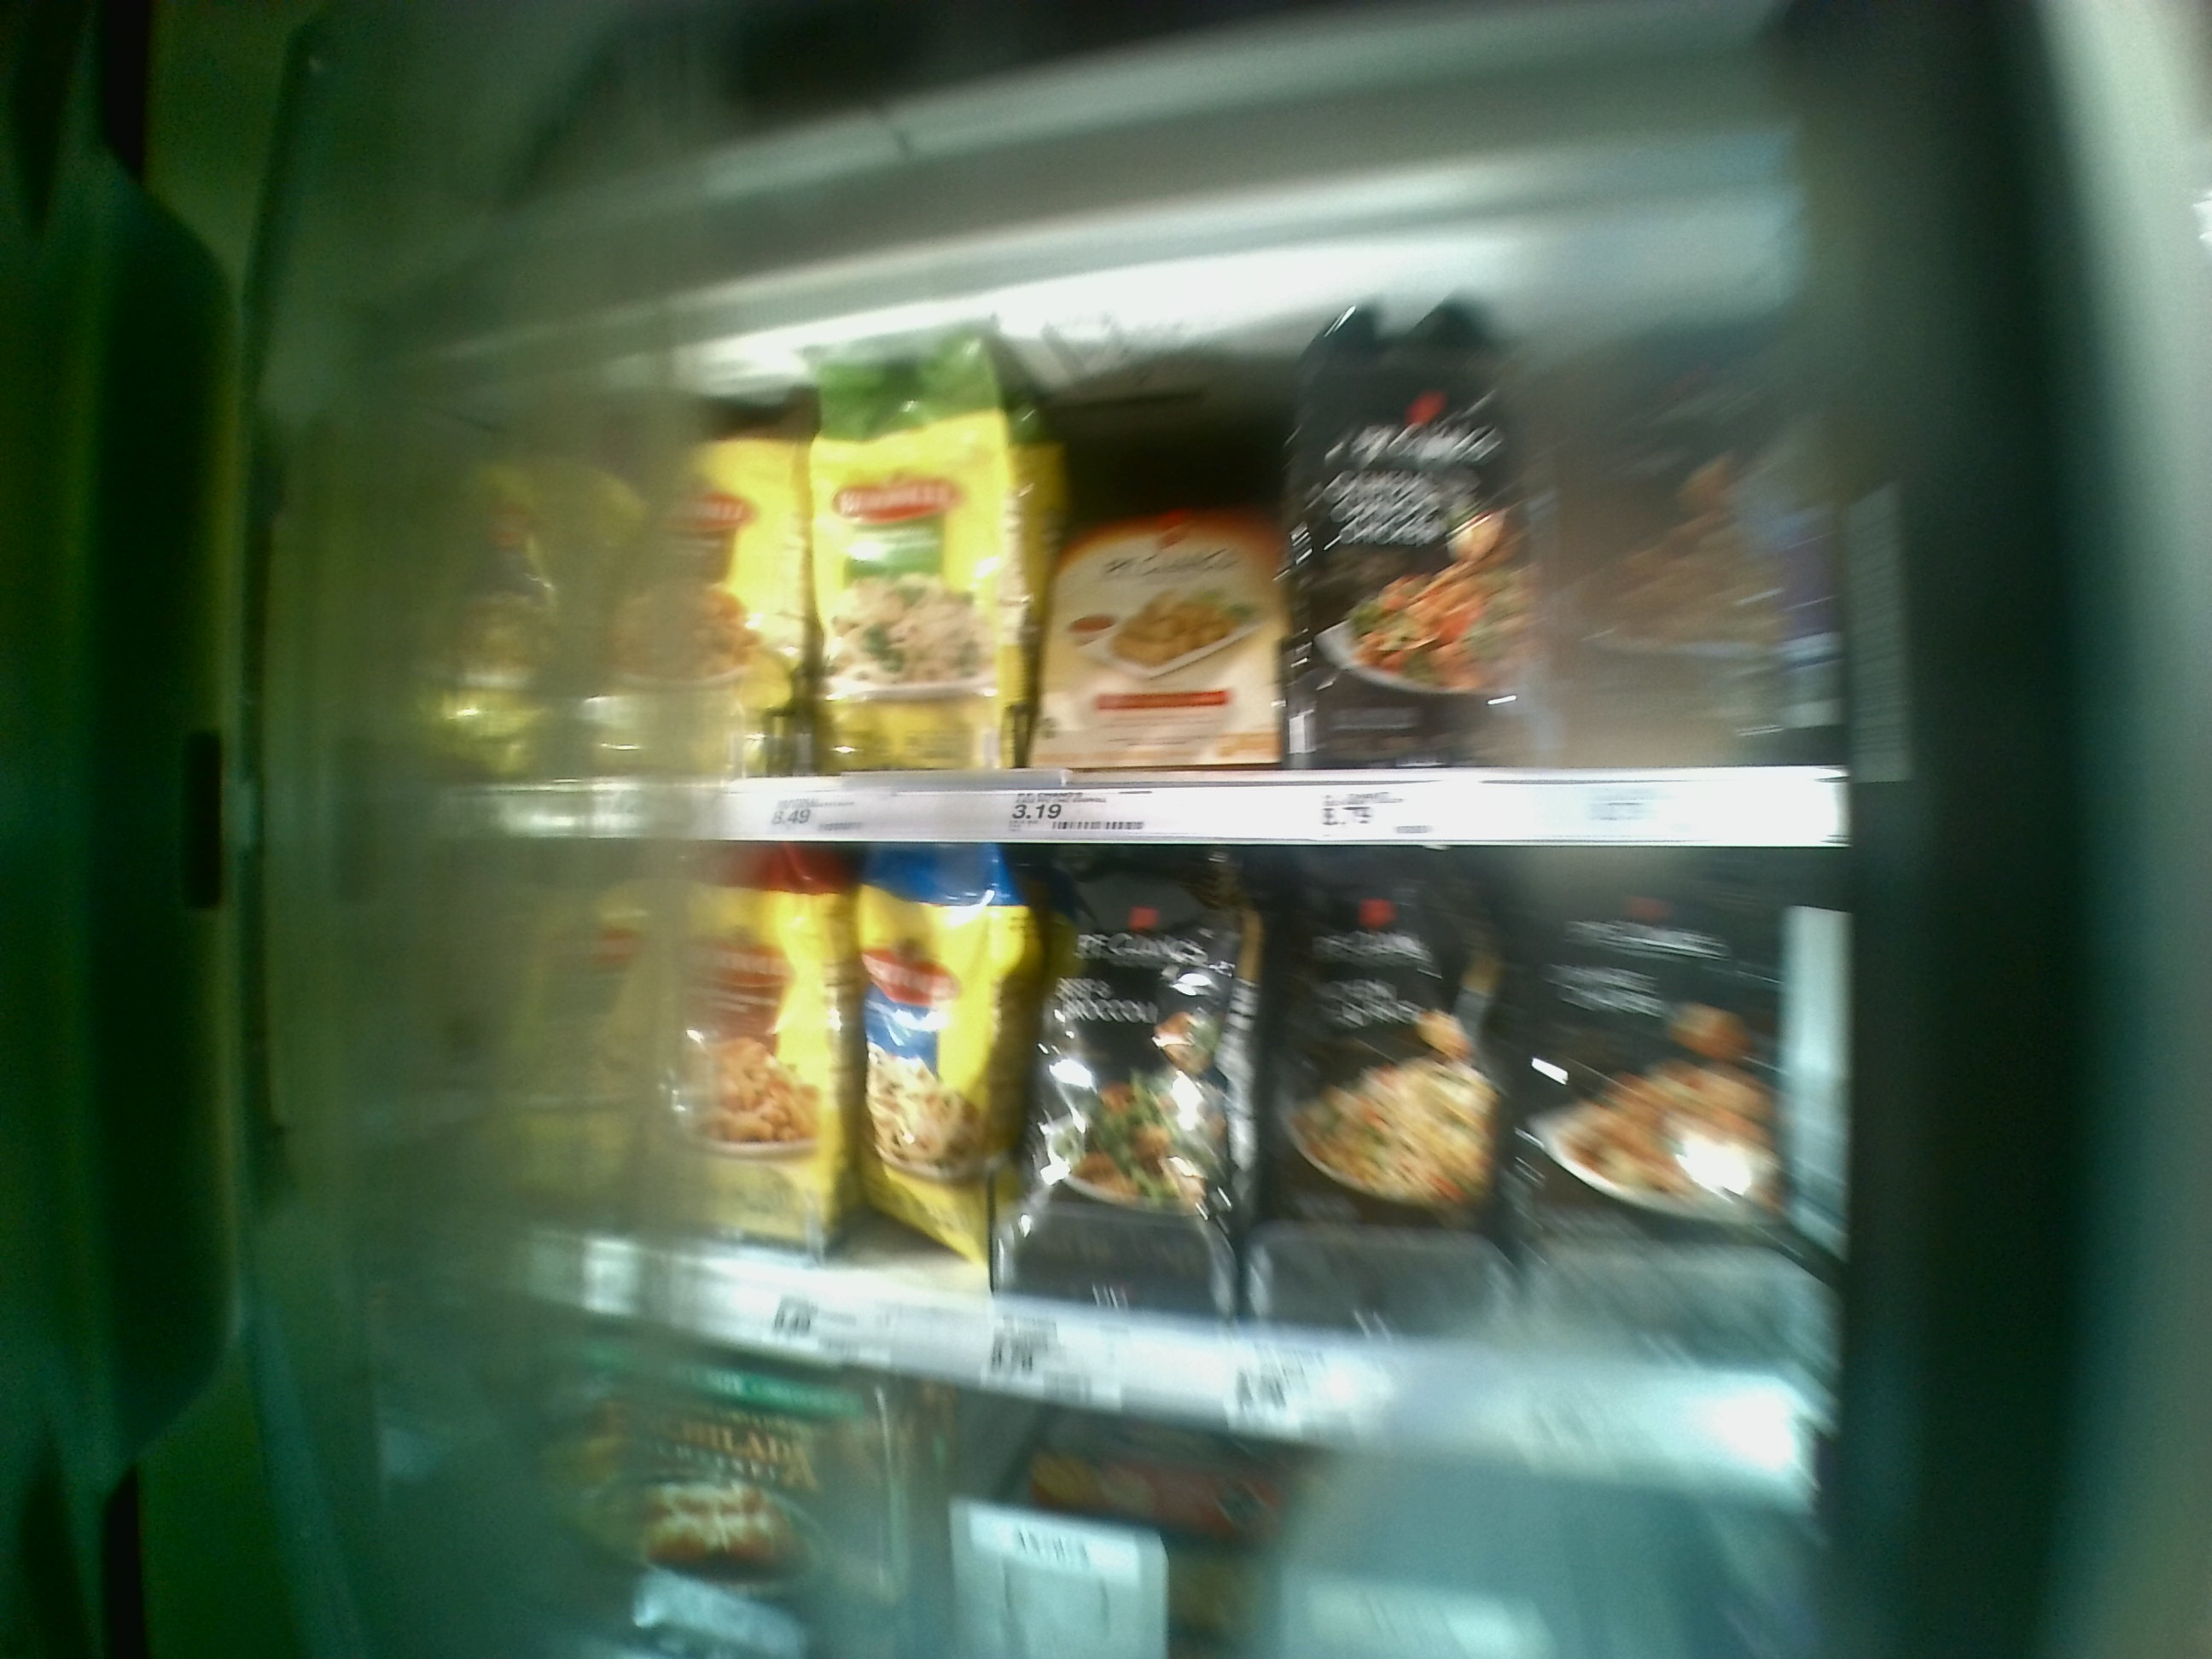shelf: (446, 845, 1834, 1446), (404, 291, 1855, 840)
